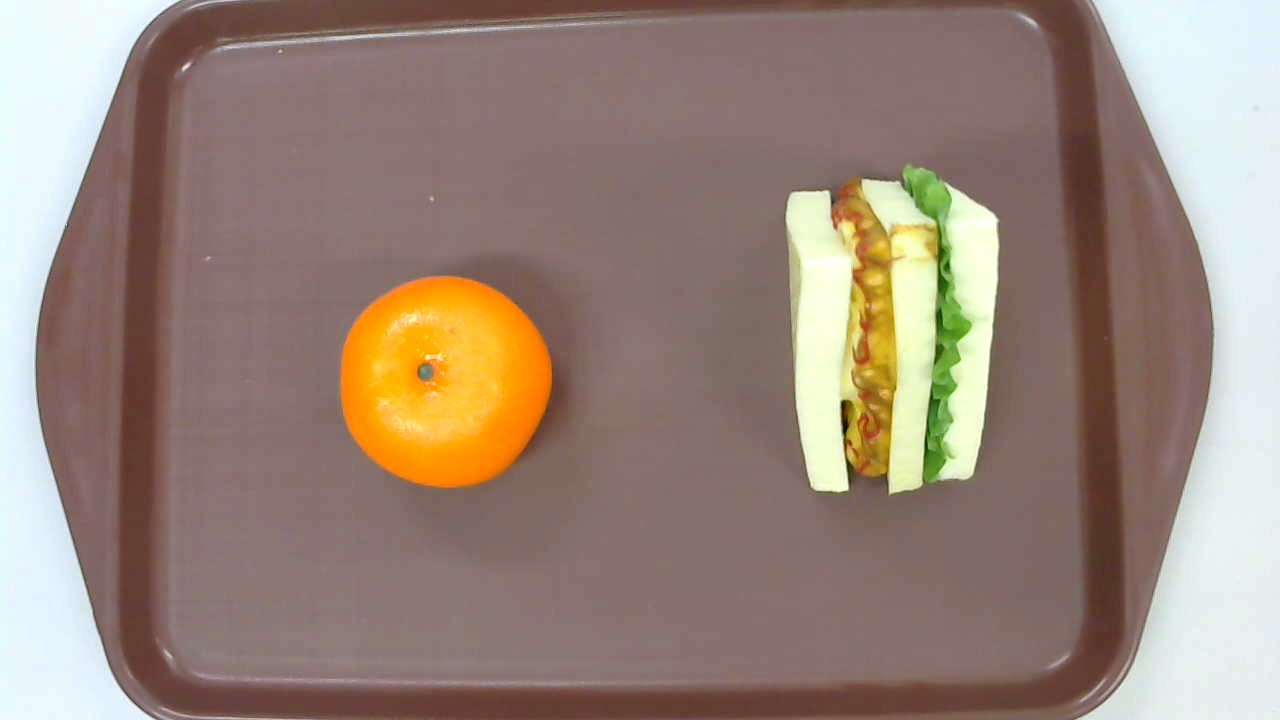orange: (338, 274, 553, 488)
sandwich: (784, 164, 1001, 496)
